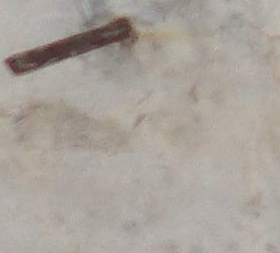Exposed reinforcement: (2, 16, 131, 78)
